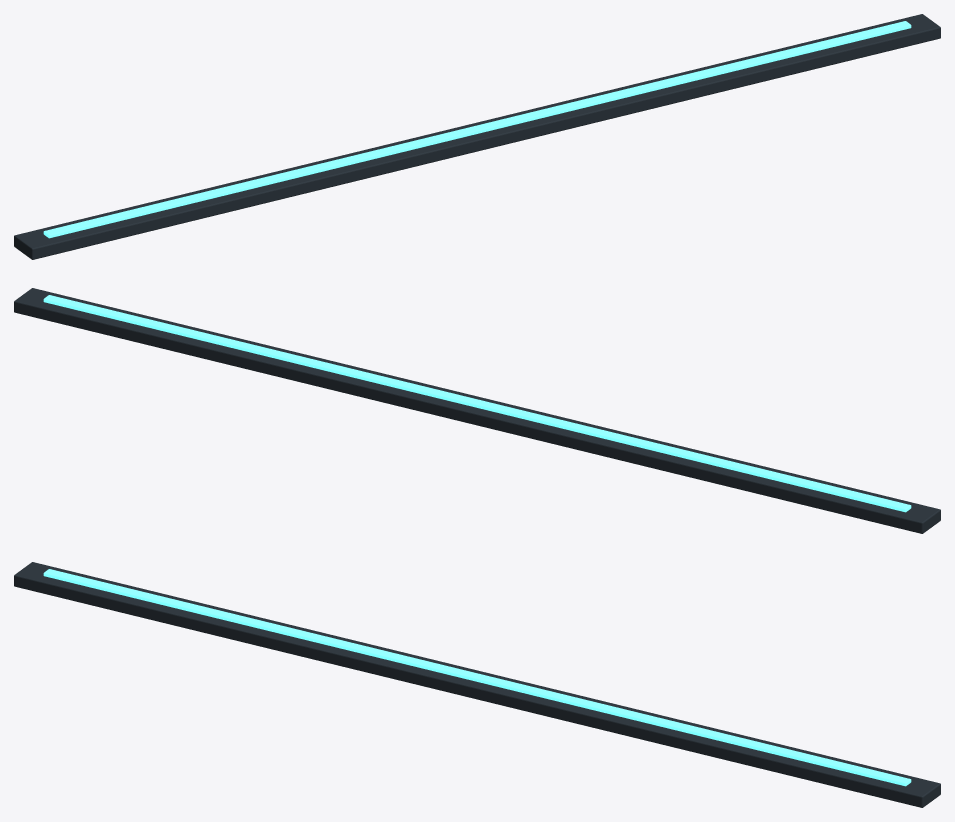
File: SM_Lab_FloorLight.fbx
3 renders of one model, top to bottom at view 1: azimuth 30°, elevation 25°; view 2: azimuth 150°, elevation 25°; view 3: azimuth 330°, elevation 25°, orthographic.
Parts seen in each view (by area): view 1: SM_Lab_FloorLight; view 2: SM_Lab_FloorLight; view 3: SM_Lab_FloorLight.
Part boxes in pixels (box(x1,y1,x2,y2)): SM_Lab_FloorLight: box(14, 14, 940, 259); SM_Lab_FloorLight: box(14, 288, 940, 533); SM_Lab_FloorLight: box(14, 562, 940, 807).
Size of the model in its own units: 196 by 7 by 3.1.
